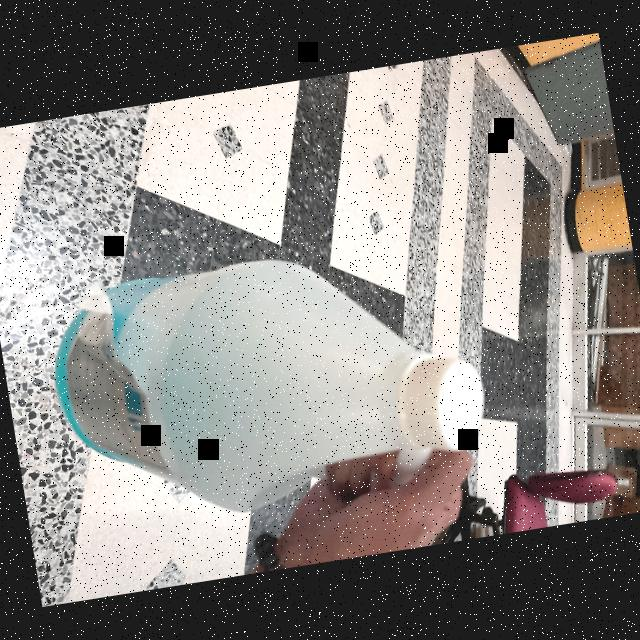chemical_plastic_gallon: (36, 201, 500, 563)
